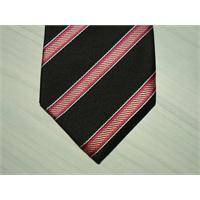tie: (38, 26, 155, 162)
